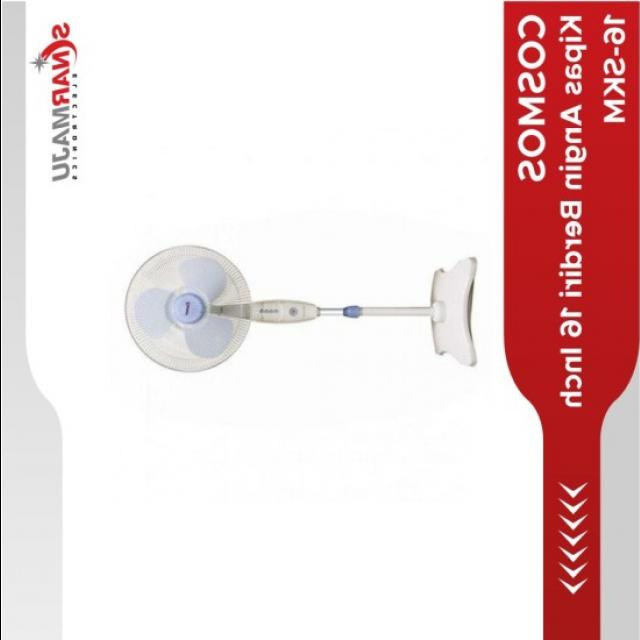fan: (117, 228, 480, 378)
